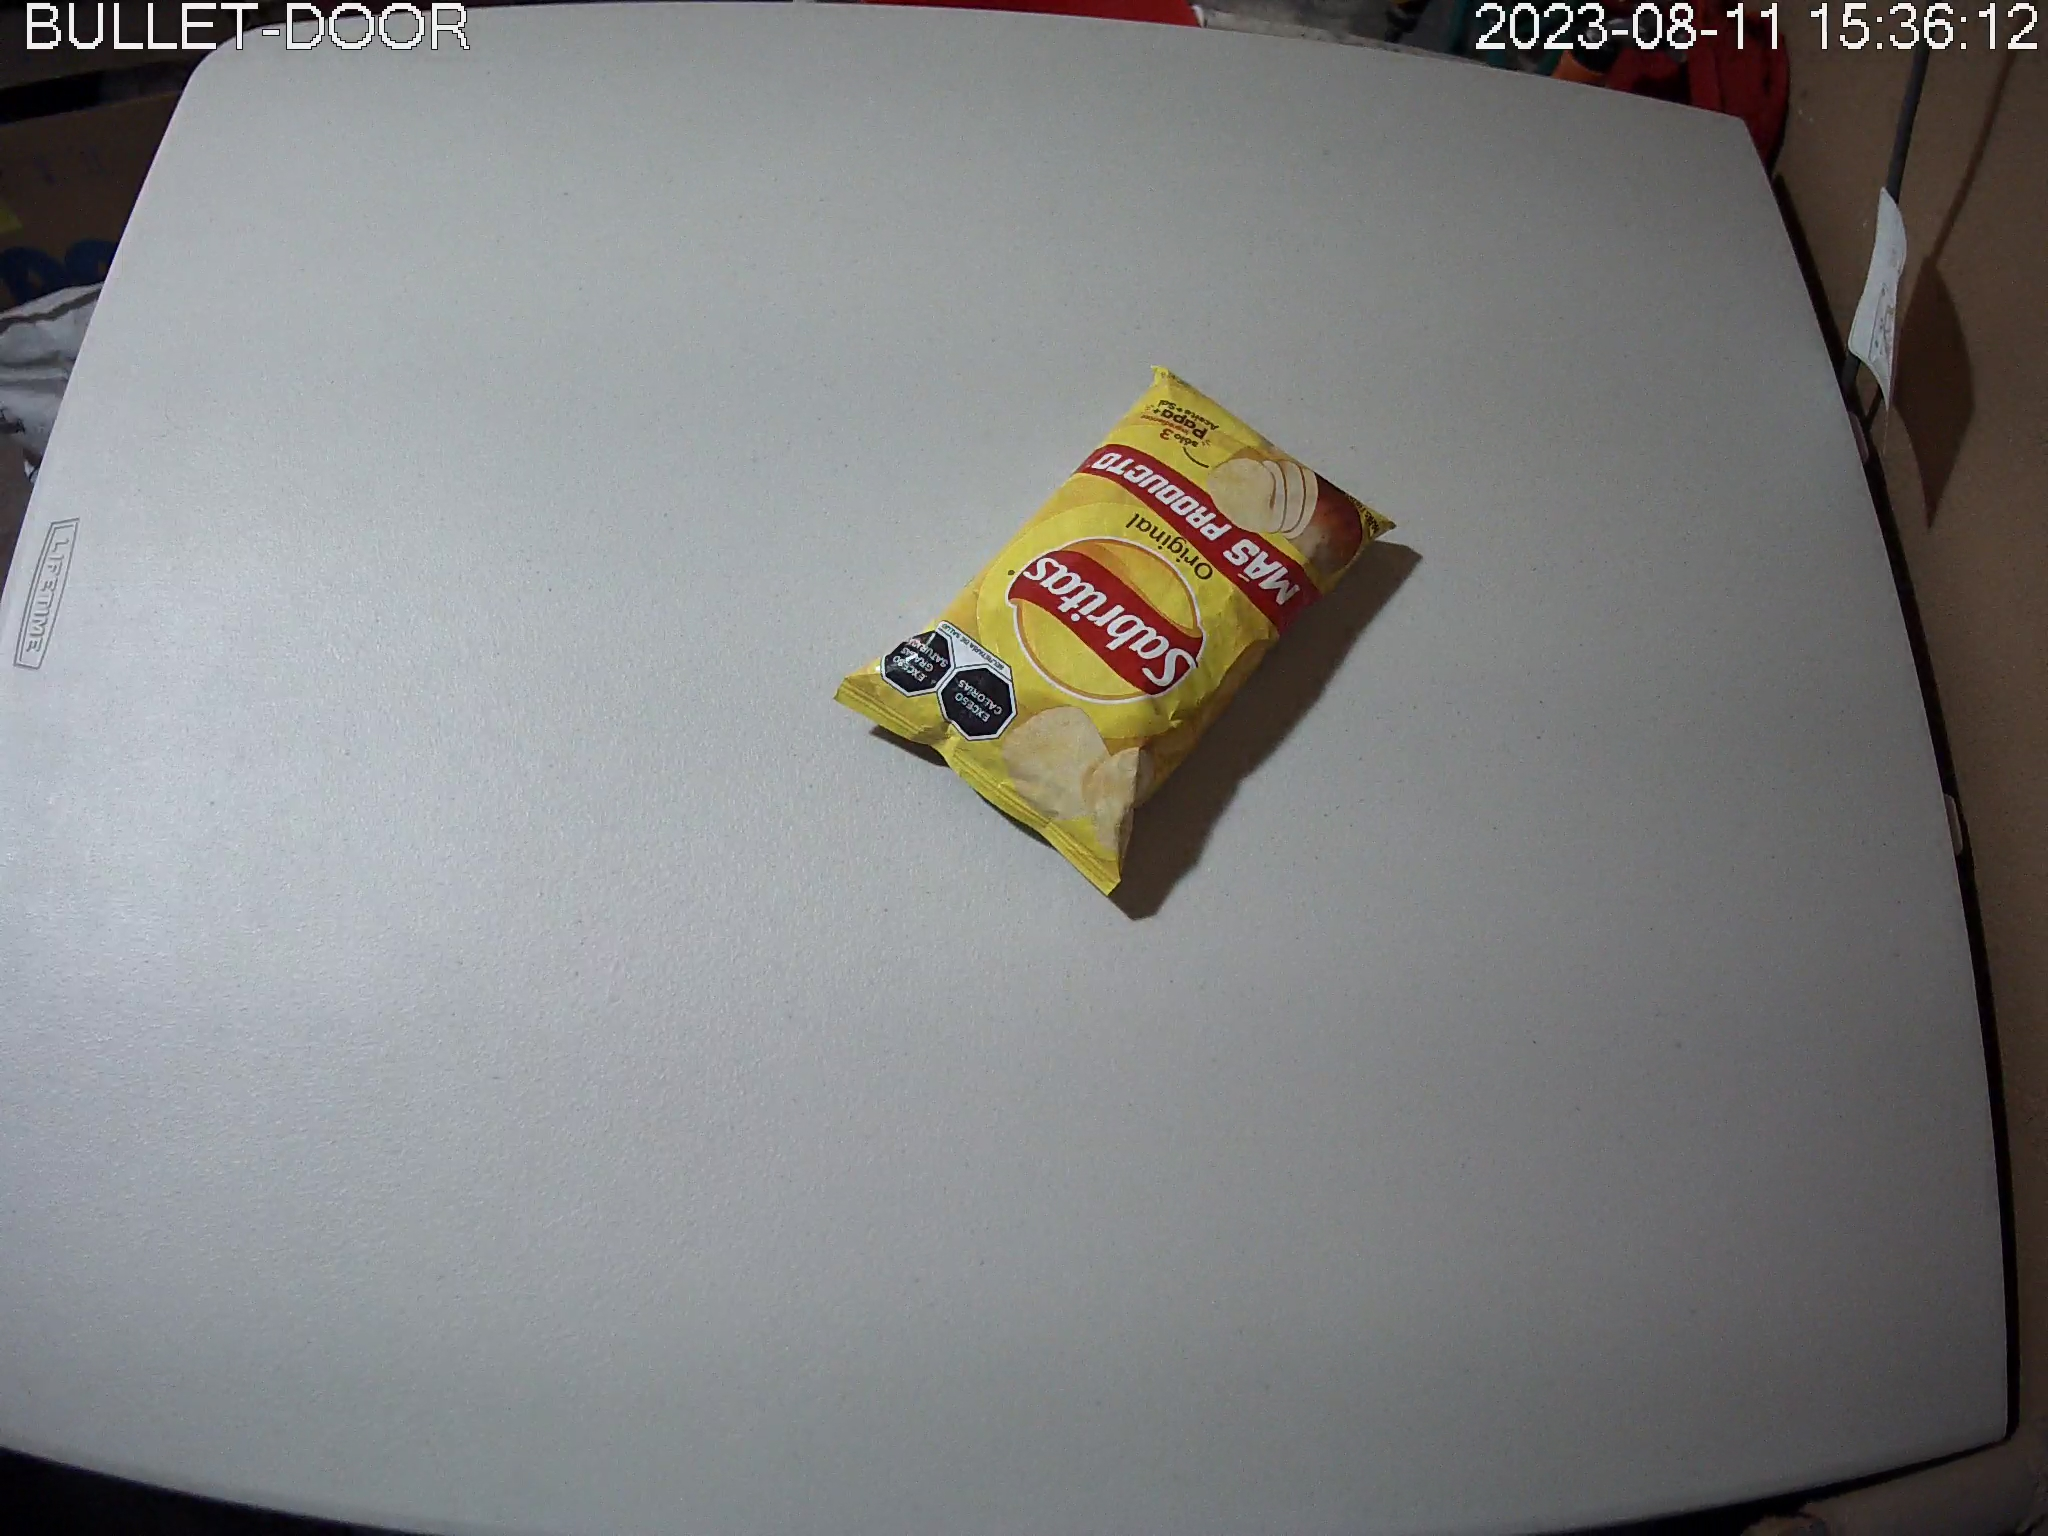Sabritas_45_F: (834, 361, 1398, 900)
